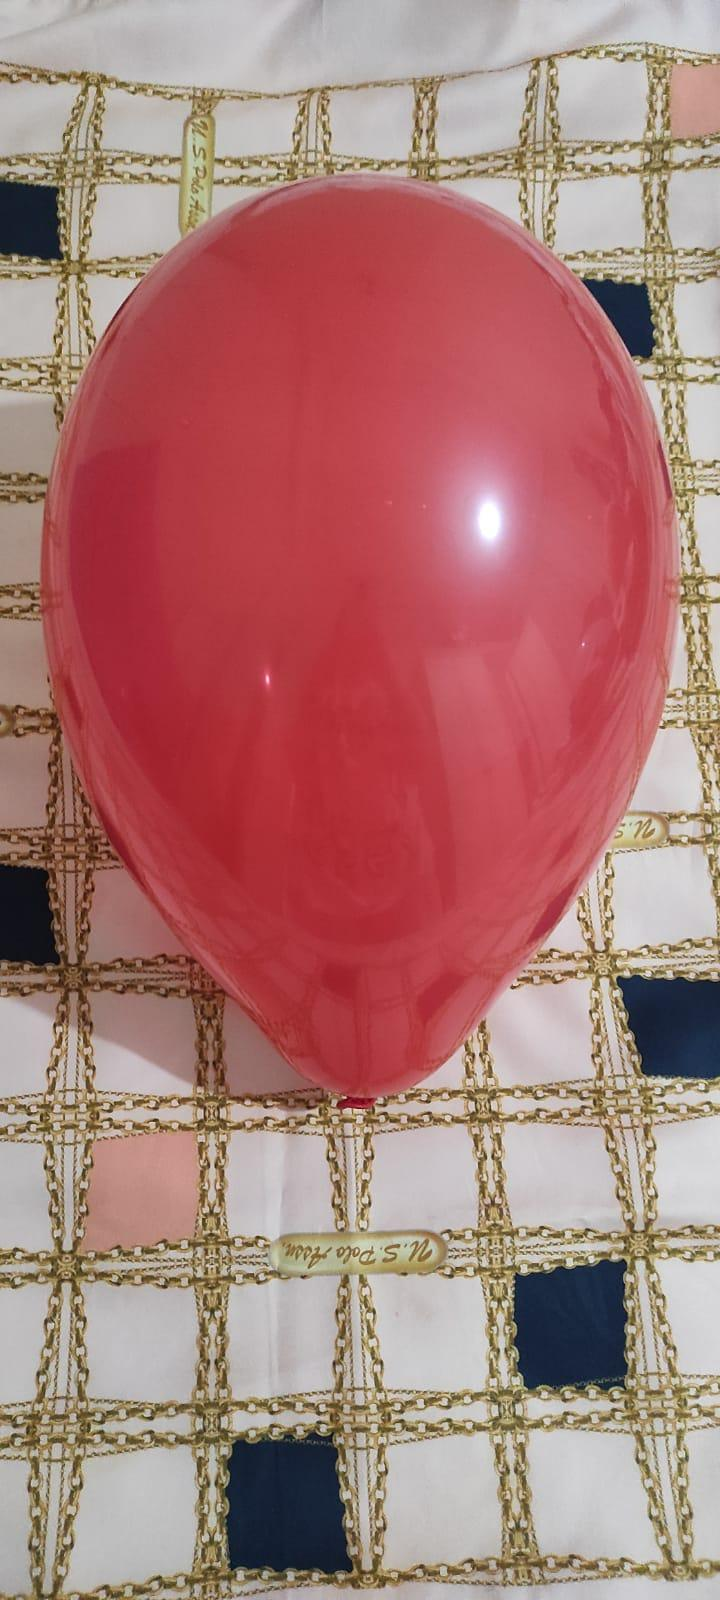red: (44, 160, 684, 1121)
